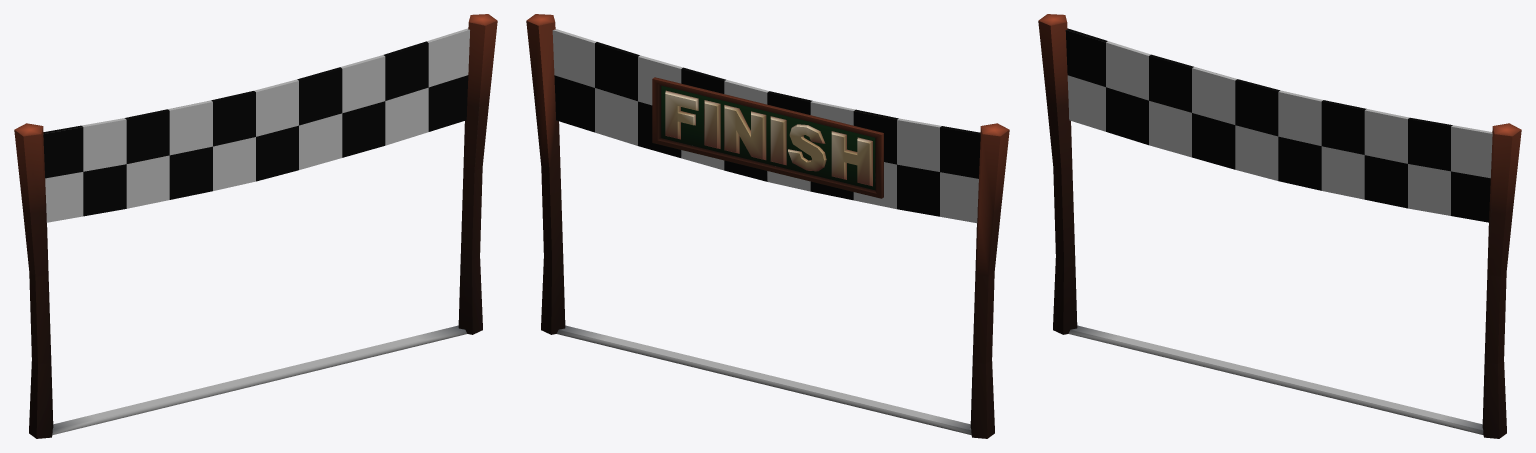
Rendered from FinishLine.fbx.
The picture shows the model from 3 angles, left to right: view 1: azimuth 30°, elevation 25°; view 2: azimuth 150°, elevation 25°; view 3: azimuth 330°, elevation 25°; orthographic projection.
Visible parts, largest first — view 1: GPL_goal_02; view 2: GPL_goal_02; view 3: GPL_goal_02.
Part boxes in pixels (left/top/right/bottom): GPL_goal_02: left=14, top=14, right=497, bottom=438; GPL_goal_02: left=526, top=14, right=1009, bottom=438; GPL_goal_02: left=1038, top=14, right=1521, bottom=438.
Size of the model in its own units: 7.02 by 4.35 by 0.381.
Materials: 1 (1 with a texture image).
